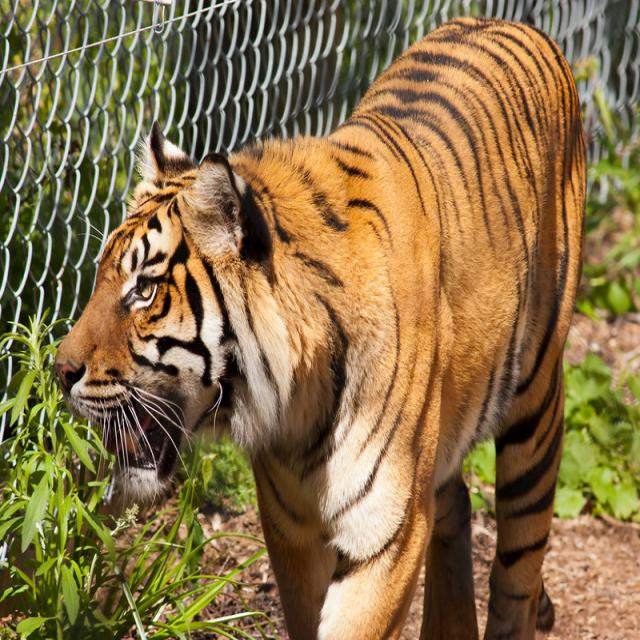Tiger: (43, 7, 590, 639)
